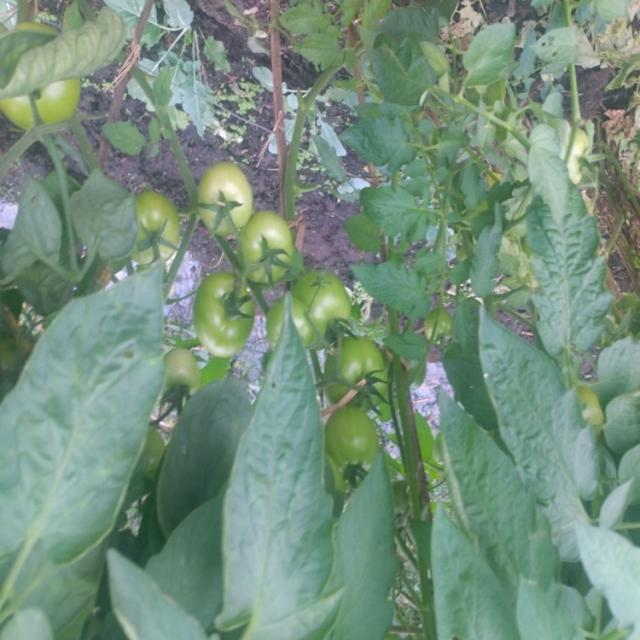tomato: (305, 398, 400, 493), (194, 263, 274, 362), (278, 273, 370, 352), (230, 207, 310, 296), (323, 336, 408, 404), (194, 145, 262, 229), (1, 70, 88, 131), (150, 341, 215, 413), (121, 196, 180, 265), (412, 301, 456, 344)
